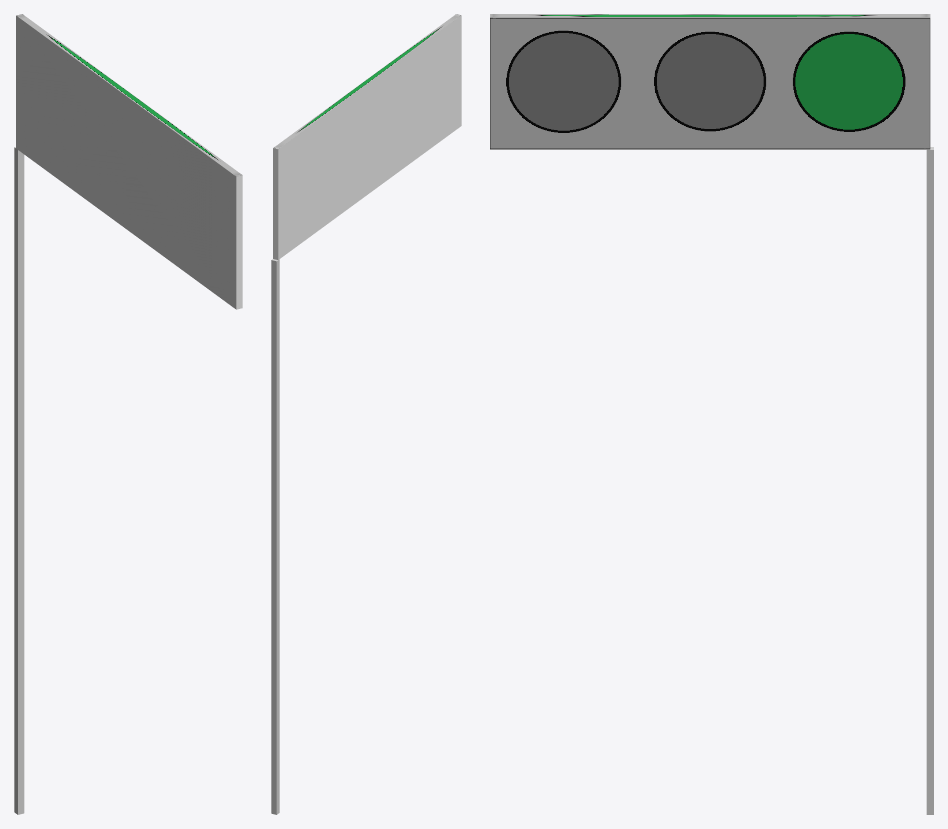
File: signal.fbx
3 views of the same model, side by side, from view 1: azimuth 30°, elevation 25°; view 2: azimuth 150°, elevation 25°; view 3: azimuth 270°, elevation 25° (orthographic). The views are drawn at different scales.
Visible parts, largest first — view 1: Cube.001, Cube; view 2: Cube.001, Cube; view 3: Cube.001, Cube.
Boxes of the visible parts, x1,y1,x2,y2 form: Cube.001: [16, 14, 242, 309]; Cube: [14, 147, 24, 814]; Cube.001: [273, 14, 461, 259]; Cube: [271, 259, 279, 814]; Cube.001: [490, 14, 930, 149]; Cube: [926, 147, 933, 814].
Bounding box in the file's own units: 10 × 1200 × 605.
Materials: 1 (1 with a texture image).
